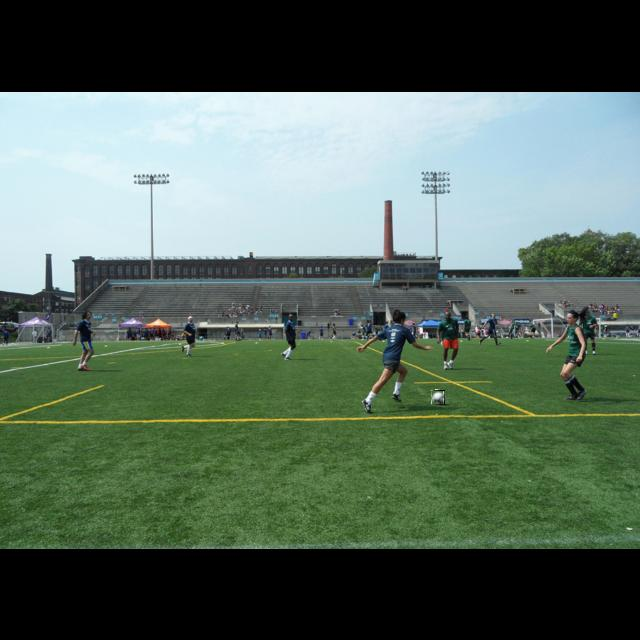Football: (431, 390, 445, 404)
